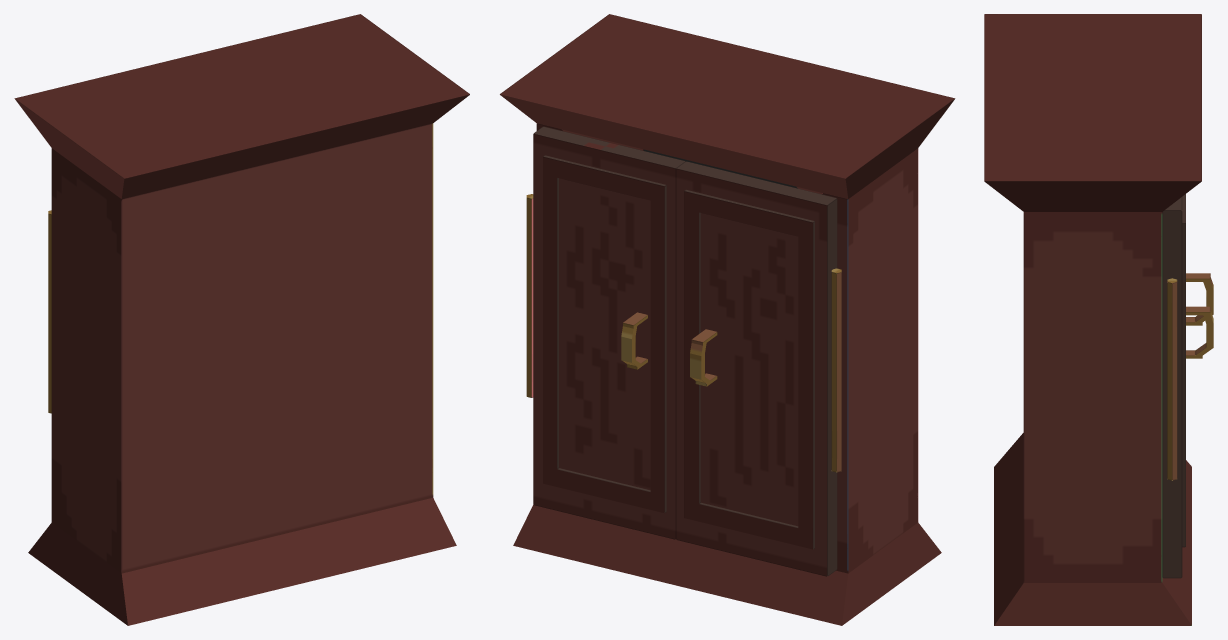
File: wardrobe.fbx
The picture shows the model from 3 angles, left to right: view 1: azimuth 30°, elevation 25°; view 2: azimuth 150°, elevation 25°; view 3: azimuth 270°, elevation 25°; orthographic projection.
Visible parts, largest first — view 1: cuboid.001, closet_selection.002; view 2: cuboid.001, closet_selection.002, cylinder.003; view 3: cuboid.001, cylinder.003, closet_selection.002.
Part boxes in pixels (<box>): cuboid.001: <box>14,14,469,625</box>; closet_selection.002: <box>48,210,51,413</box>; cuboid.001: <box>500,14,955,625</box>; closet_selection.002: <box>676,161,841,576</box>; cylinder.003: <box>526,126,685,539</box>; cuboid.001: <box>984,14,1201,625</box>; cylinder.003: <box>1162,194,1213,578</box>; closet_selection.002: <box>1186,273,1213,325</box>.
Bounding box in the file's own units: 250 × 313 × 145.
